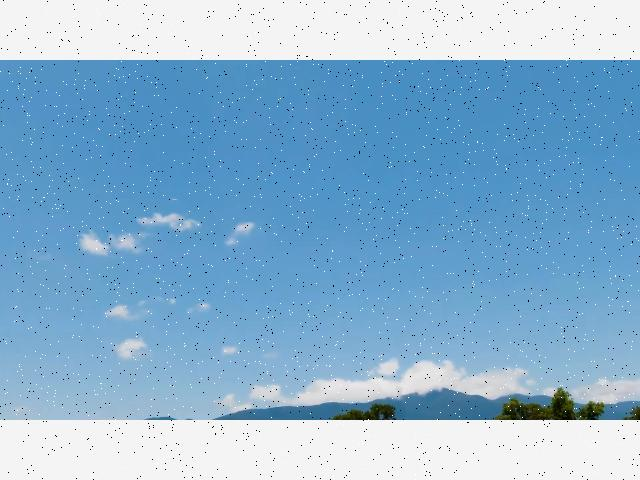Anti-Drone: (167, 194, 179, 202)
